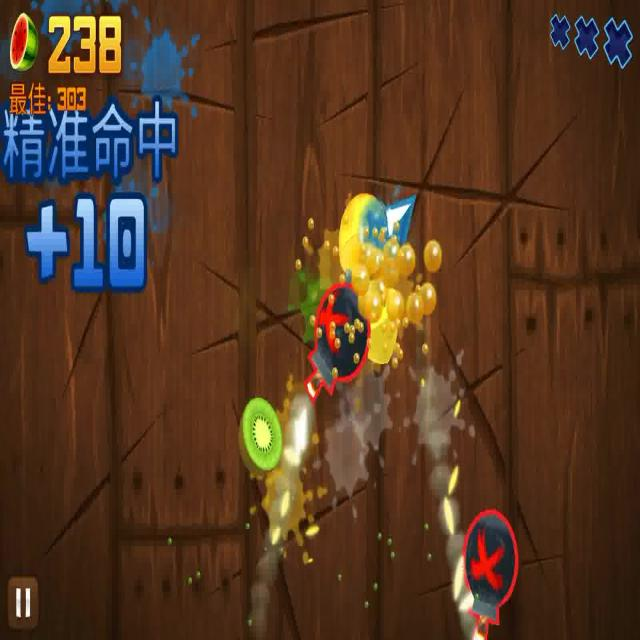bomb: (458, 504, 520, 637), (306, 278, 369, 402)
fruit: (334, 192, 384, 280), (238, 396, 283, 482)
